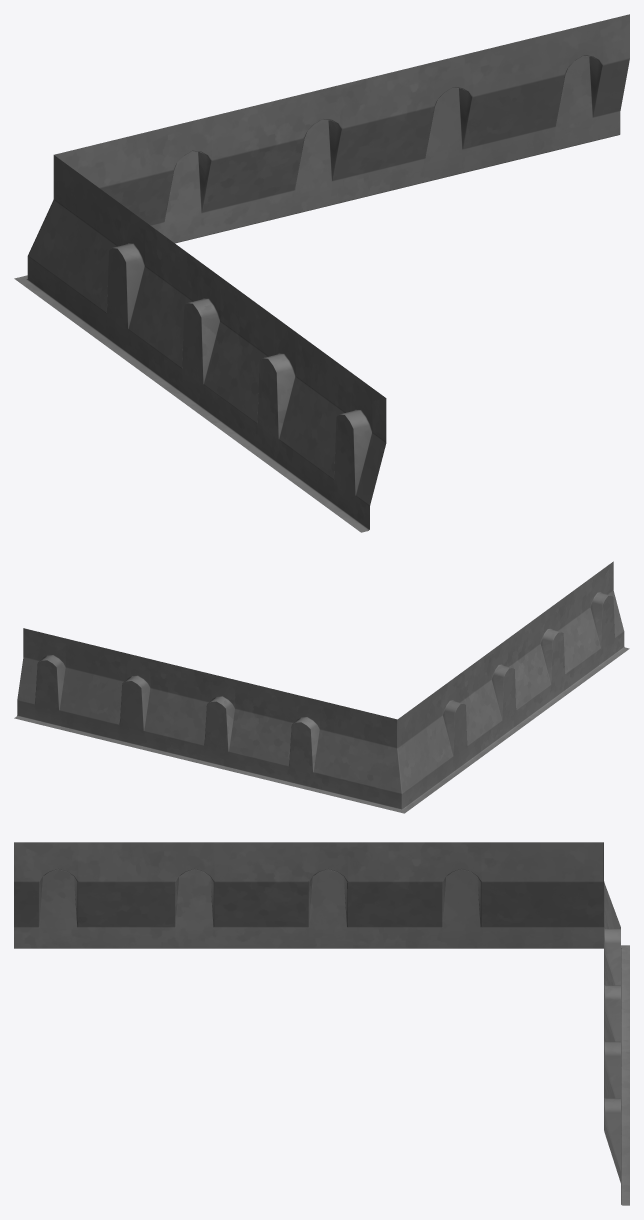
The model's file is TrimV3_InsideCorner.fbx.
The picture shows the model from 3 angles, top to bottom: view 1: azimuth 30°, elevation 25°; view 2: azimuth 150°, elevation 25°; view 3: azimuth 270°, elevation 25°; orthographic projection. The views are drawn at different scales.
Visible parts, largest first — view 1: TrimV3_InsideCorner; view 2: TrimV3_InsideCorner; view 3: TrimV3_InsideCorner.
Boxes of the visible parts, box(x1,y1,x2,y2) form: TrimV3_InsideCorner: box(14, 14, 629, 532); TrimV3_InsideCorner: box(14, 561, 629, 813); TrimV3_InsideCorner: box(14, 842, 629, 1205).
Bounding box in the file's own units: 490 × 99.88 × 490.
1 material, 1 textured.
